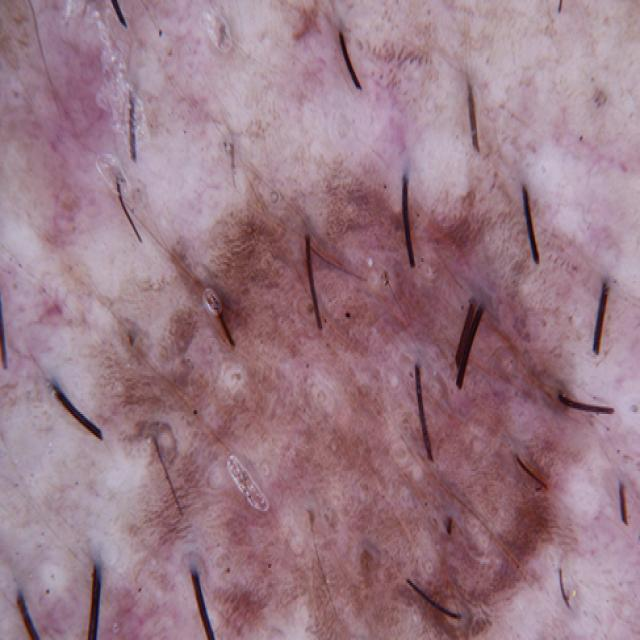Keratosis: (95, 123, 607, 640)
